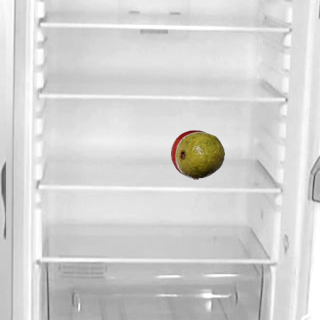Apple Braeburn: (170, 129, 220, 179)
Guava: (174, 129, 224, 179)
